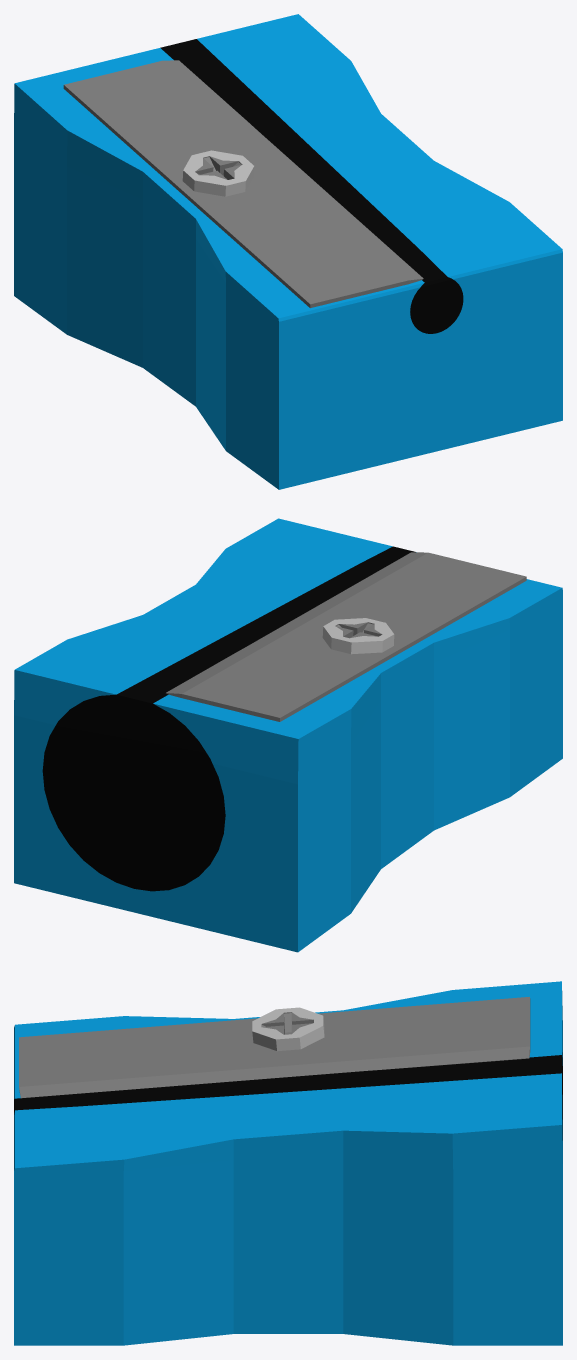
File: BlankSharpener.fbx
3 views of the same model, one above another, from view 1: azimuth 30°, elevation 25°; view 2: azimuth 150°, elevation 25°; view 3: azimuth 270°, elevation 25° (orthographic). The views are drawn at different scales.
Visible parts, largest first — view 1: SharpLBlue; view 2: SharpLBlue; view 3: SharpLBlue.
Boxes of the visible parts, x1,y1,x2,y2 form: SharpLBlue: (14, 14, 562, 489); SharpLBlue: (14, 518, 562, 952); SharpLBlue: (14, 981, 562, 1345).
Bounding box in the file's own units: 200 × 124 × 89.38.
